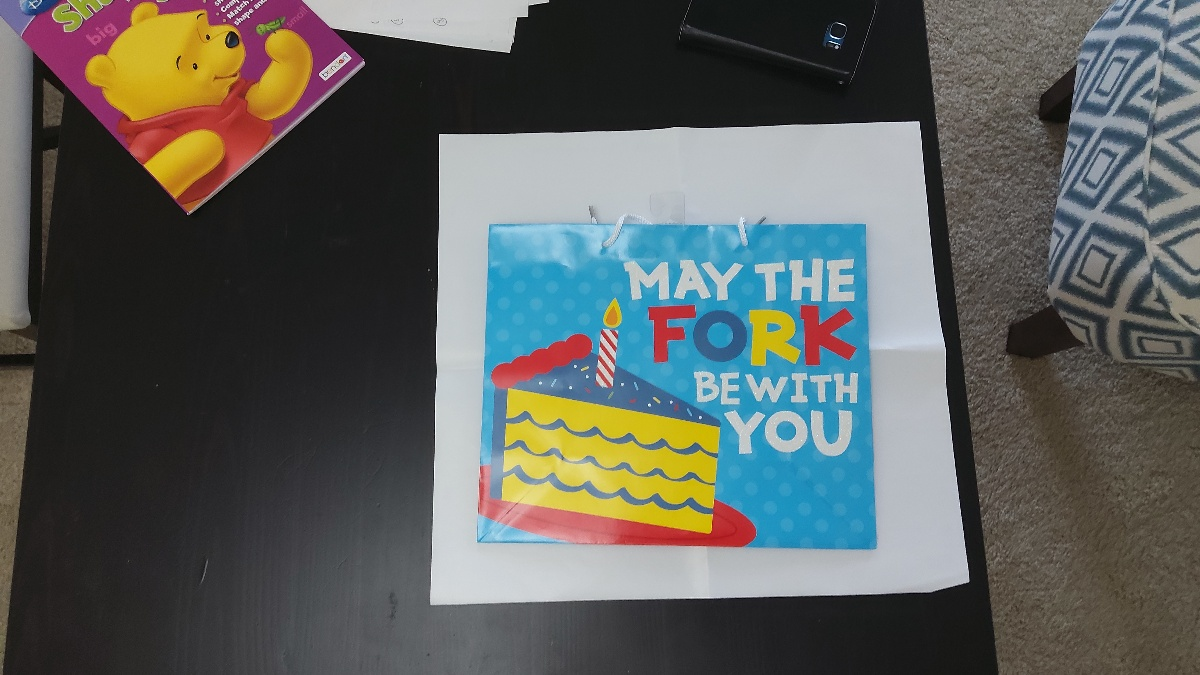paper_bag: (486, 223, 879, 548)
